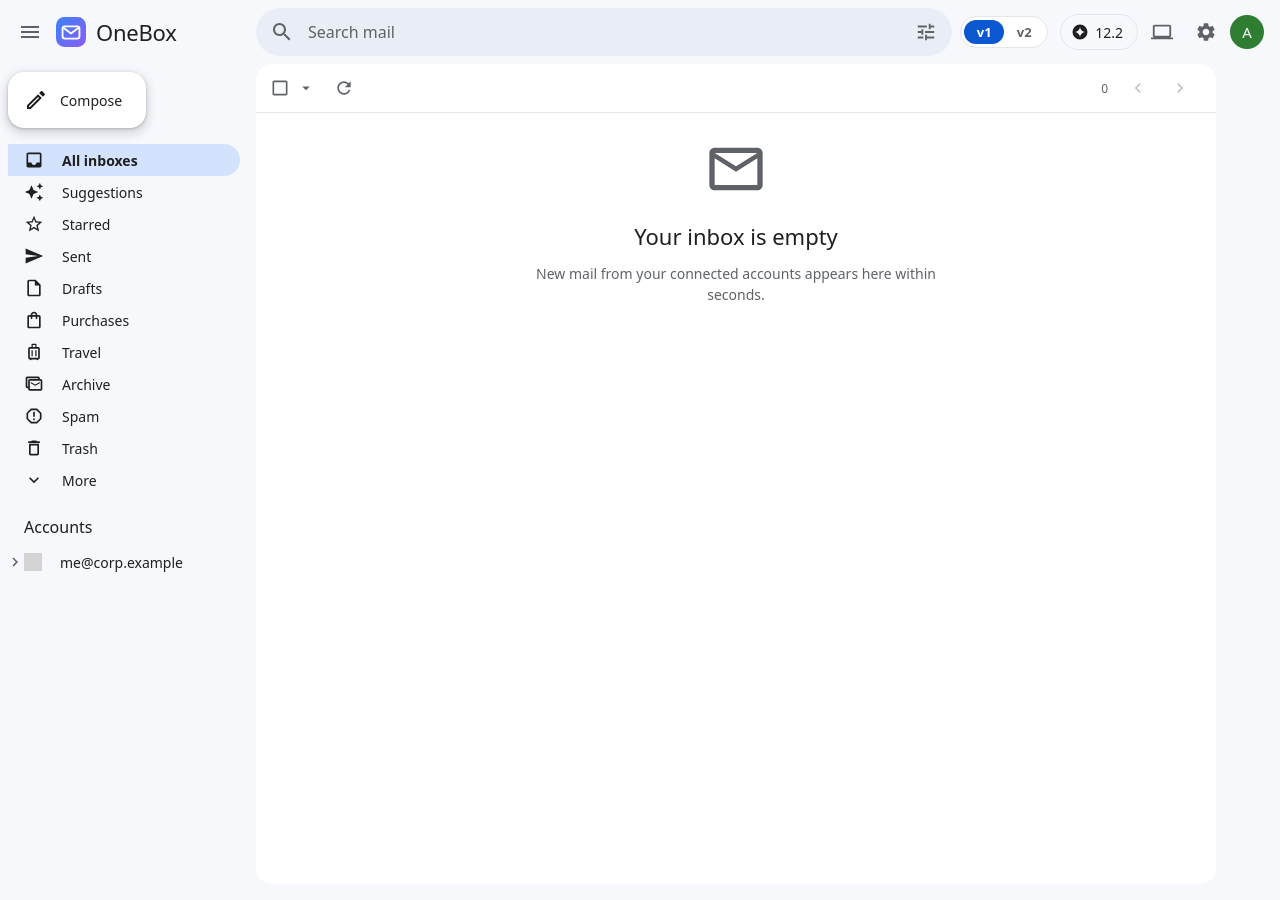
Test case: AppShell › names gmail's archive All Mail and lists the account's labels
Click the button named "Show folders for me@corp.example" at (15, 562), box [6,553,24,571]
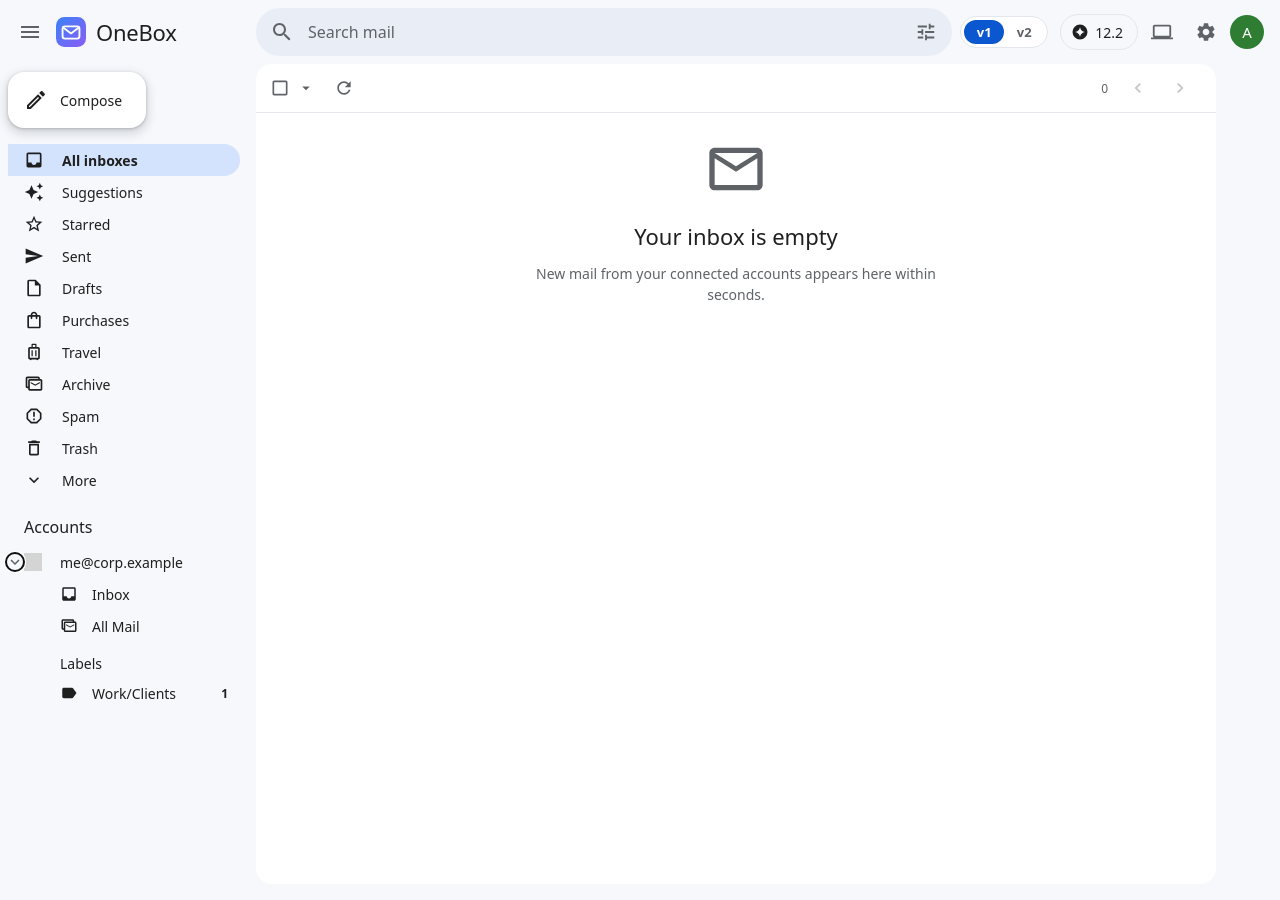
expect the text named "1 unread in Work/Clients" is shown: met, box [221,684,228,702]
